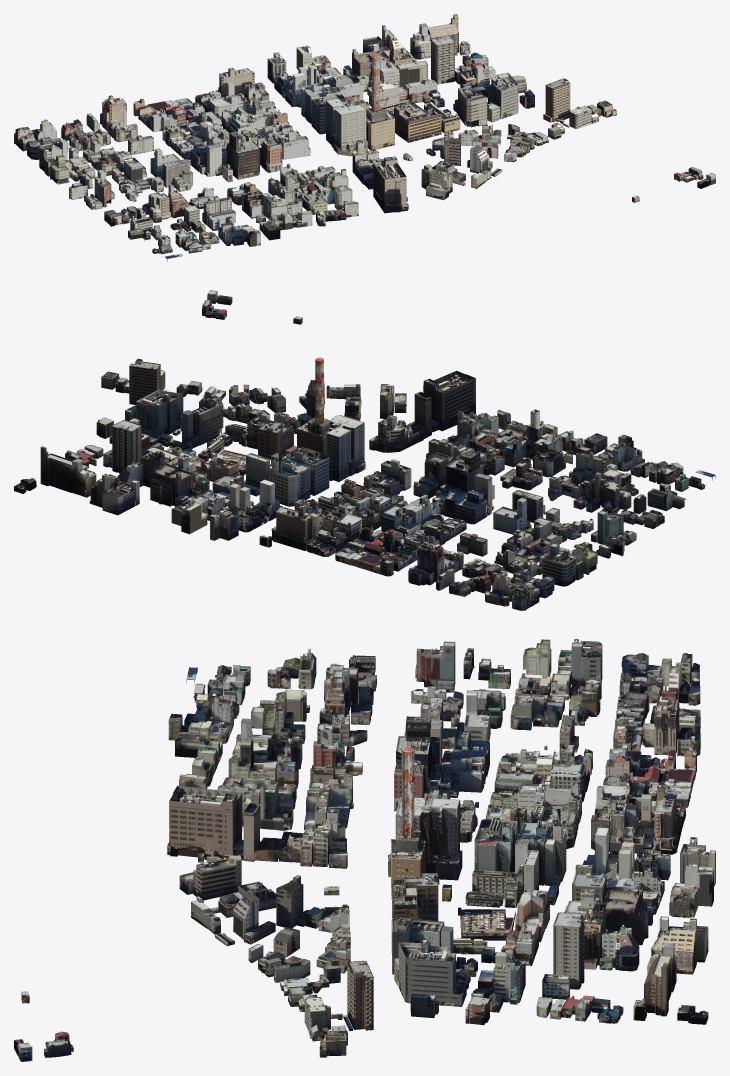
Rendered from station-6-1-packed.glb.
The picture shows the model from 3 angles, top to bottom: view 1: azimuth 30°, elevation 25°; view 2: azimuth 150°, elevation 25°; view 3: azimuth 270°, elevation 25°; orthographic projection. The views are drawn at different scales.
Size of the model in its own units: 610 by 105 by 463.
28 materials, 27 textured.
